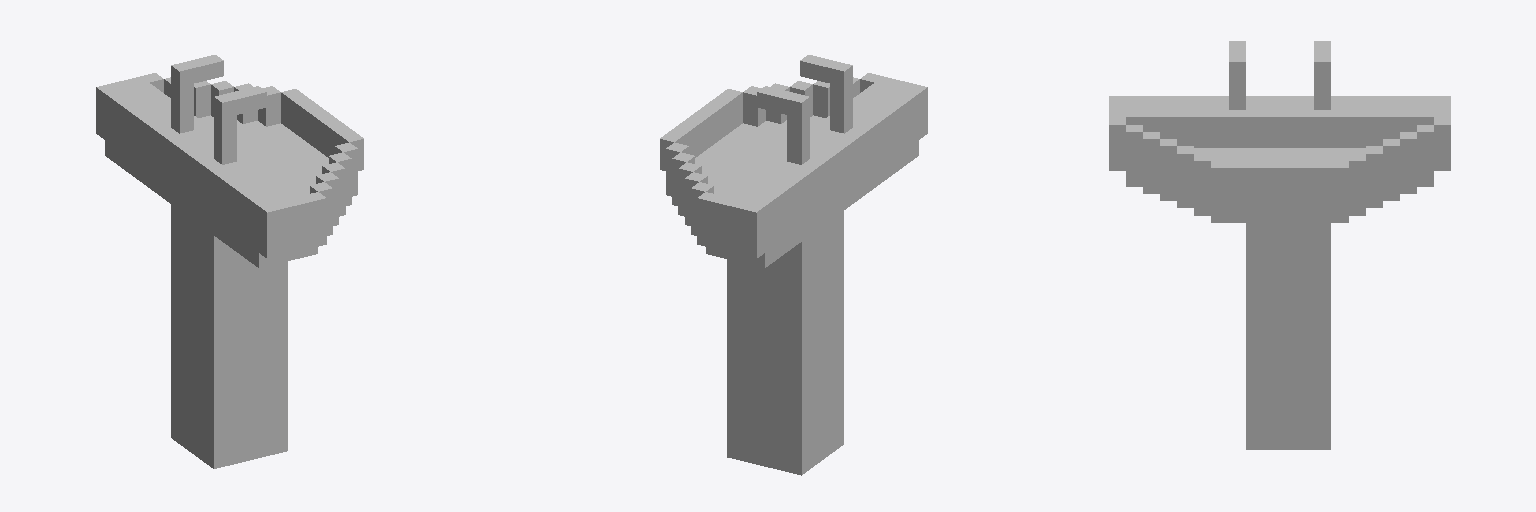
File: sink.obj
3 views of the same model, side by side, from view 1: azimuth 30°, elevation 25°; view 2: azimuth 150°, elevation 25°; view 3: azimuth 270°, elevation 25° (orthographic).
Bounding box in the file's own units: 10 × 24 × 20.